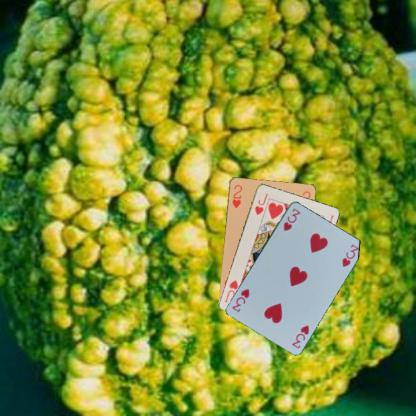2h: (230, 182, 244, 209)
3h: (289, 322, 310, 350), (280, 206, 301, 232)
Jh: (252, 191, 269, 216)
